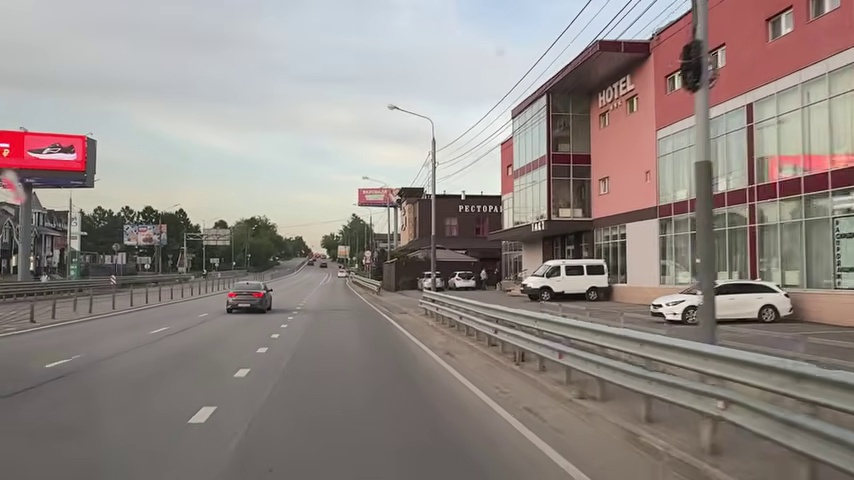apagada: (387, 102, 404, 115)
